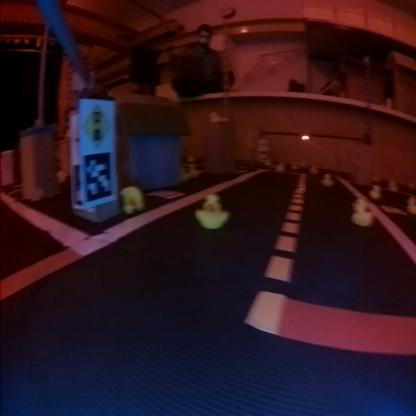Duckie: (198, 192, 228, 228), (120, 186, 144, 214), (352, 198, 374, 224), (324, 174, 334, 186)
QR code: (86, 152, 114, 202), (149, 189, 183, 199), (381, 204, 407, 212)
Signal sign: (85, 104, 109, 142)
